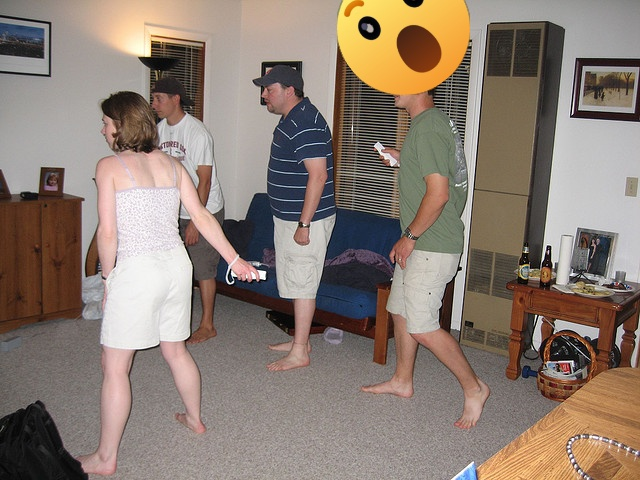wow: (337, 0, 470, 95)
